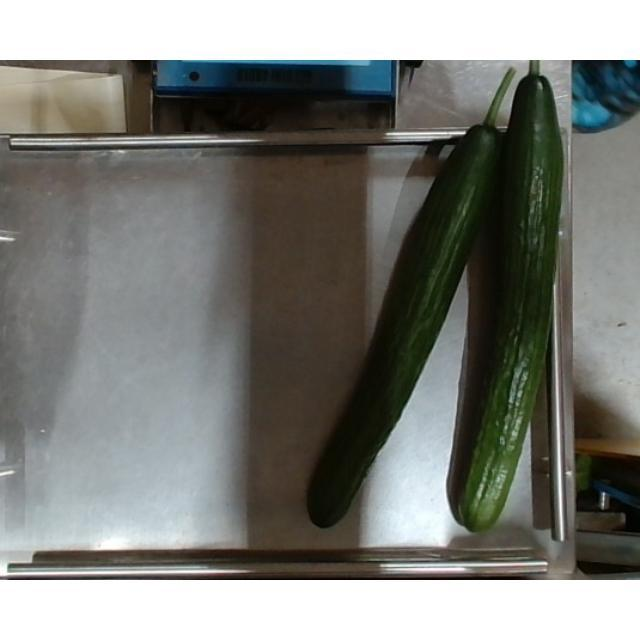cucumber: (308, 67, 518, 530), (448, 61, 562, 532)
